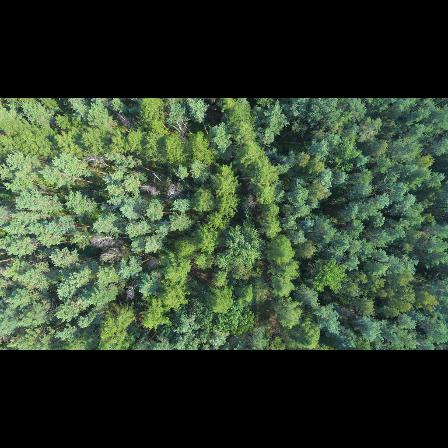Dead: (88, 230, 119, 247), (98, 248, 126, 264), (242, 192, 261, 213), (165, 180, 185, 199), (87, 154, 111, 167), (123, 284, 139, 301), (116, 111, 129, 130)
